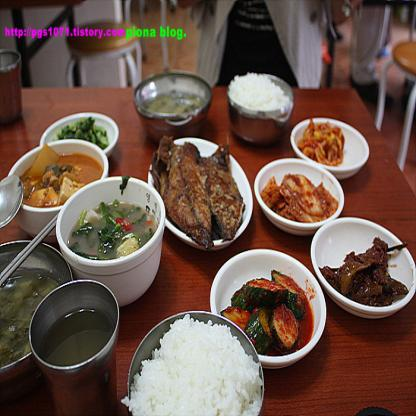Peixe: (157, 138, 245, 256)
